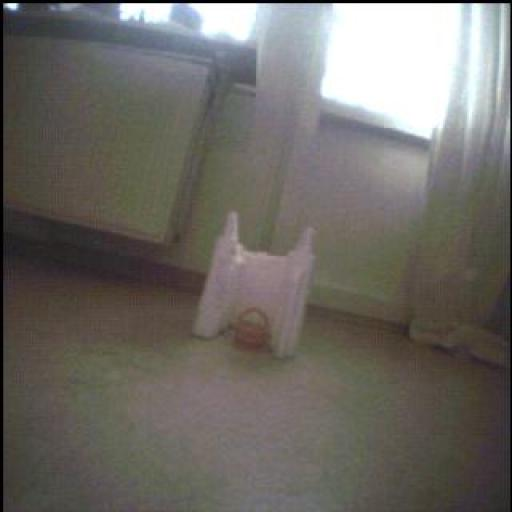Basket: (233, 308, 271, 350)
